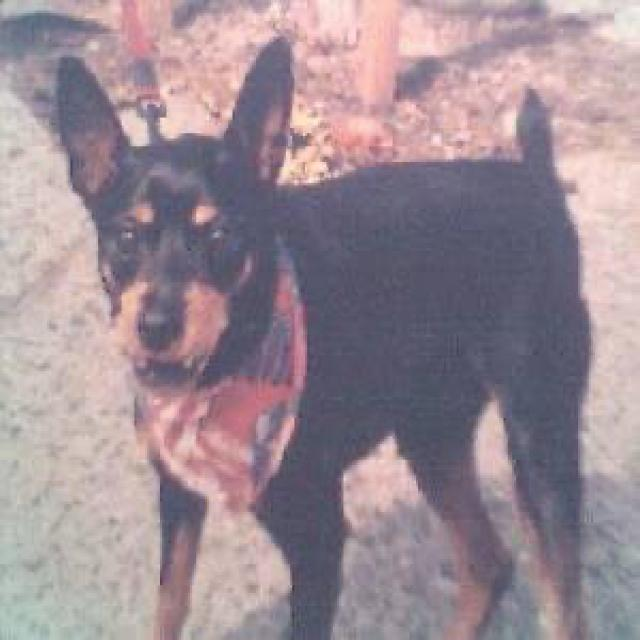dog: (56, 34, 290, 387)
